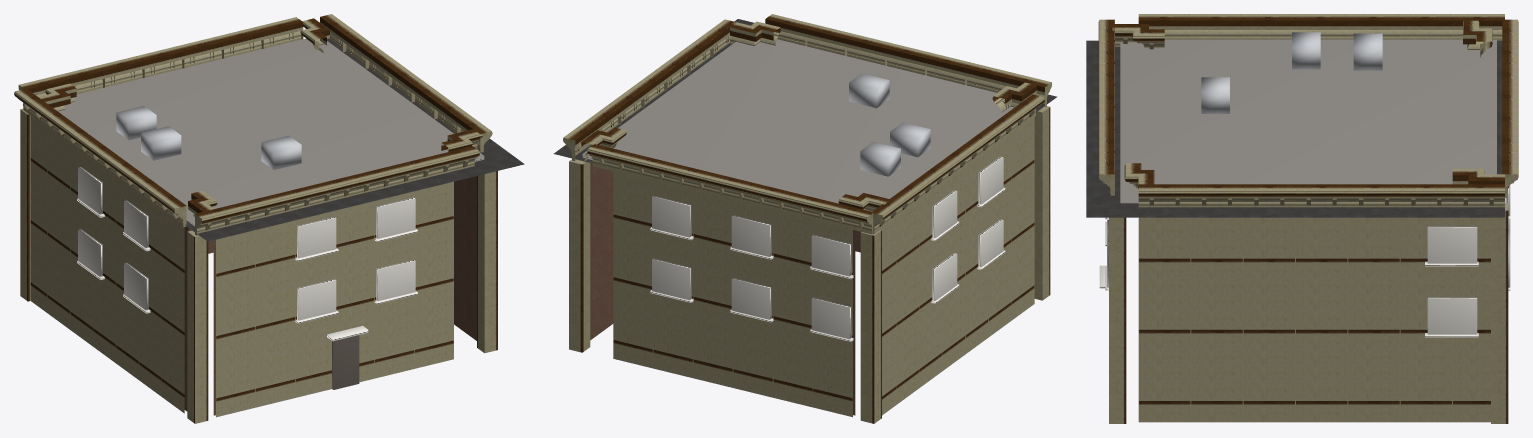
File: b_bank.gltf
The picture shows the model from 3 angles, left to right: view 1: azimuth 30°, elevation 25°; view 2: azimuth 150°, elevation 25°; view 3: azimuth 270°, elevation 25°; orthographic projection. The views are drawn at different scales.
Visible parts, largest first — view 1: b_bank; view 2: b_bank; view 3: b_bank.
Boxes of the visible parts, bbox=[...] form: b_bank: bbox=[14, 14, 524, 423]; b_bank: bbox=[553, 14, 1057, 423]; b_bank: bbox=[1086, 14, 1518, 423].
Size of the model in its own units: 16.53 by 10.3 by 16.53.
9 materials, 3 textured.
